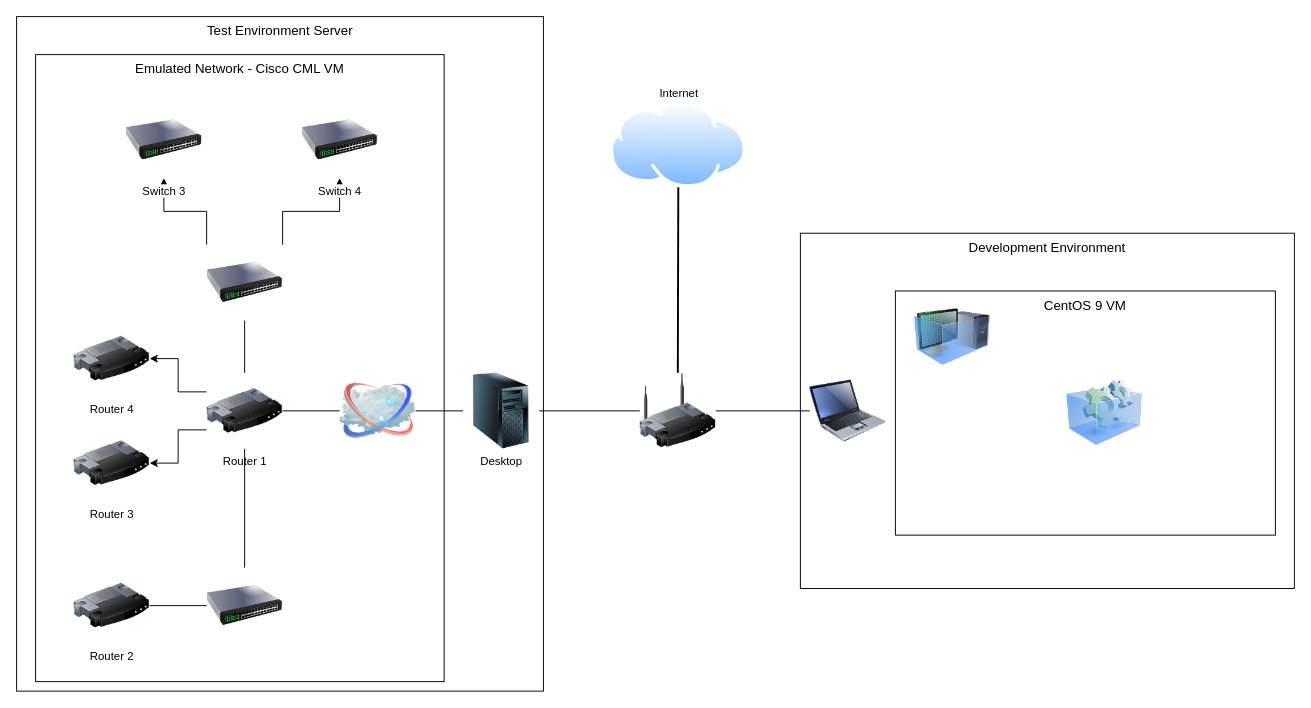
Some shapes in this 1311 by 708 pixel diagram are drawn without their labels. The centre of each missing label's shape, as x and y in pixels:
External Connector: the point at 377,410
Laptop: the point at 847,410
NetBeans: the point at 1104,412
Switch 1: the point at 244,282
Switch 2: the point at 244,605
Wireless Router: the point at 677,410
